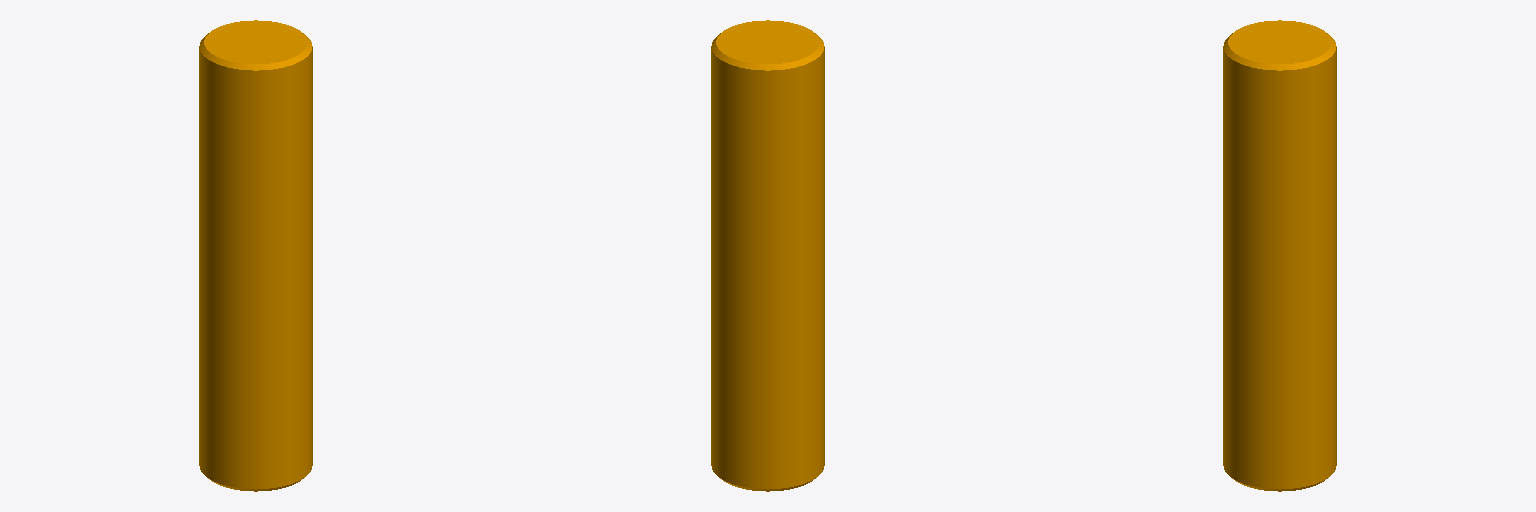
robot.urdf — factory_round_peg_12mm_tight:
<?xml version="1.0"?>
<robot name="factory_round_peg_12mm_tight">
    <link name="factory_round_peg_12mm_tight">
        <visual>
            <geometry>
                <mesh filename="../mesh/factory_insertion/factory_round_peg_12mm_tight.obj"/>
            </geometry>
        </visual>
        <collision>
            <geometry>
                <mesh filename="../mesh/factory_insertion/factory_round_peg_12mm_tight.obj"/>
            </geometry>
            <sdf resolution="256"/>
        </collision>
    </link>
</robot>

--- Facts derived from the render (not from the file) ---
Views: 3 orthographic renders of the robot side by side, from view 1: azimuth 30°, elevation 25°; view 2: azimuth 150°, elevation 25°; view 3: azimuth 270°, elevation 25°.
Model factory_round_peg_12mm_tight with 1 links and 0 joints (none), rooted at factory_round_peg_12mm_tight, posed all joints at 0.
Links seen in each view (by area): view 1: factory_round_peg_12mm_tight; view 2: factory_round_peg_12mm_tight; view 3: factory_round_peg_12mm_tight.
Link boxes in pixels (x1,y1,x2,y2): factory_round_peg_12mm_tight: [199, 20, 312, 491]; factory_round_peg_12mm_tight: [711, 20, 824, 491]; factory_round_peg_12mm_tight: [1223, 20, 1336, 491].
Size in the robot's own frame: 0.012 by 0.012 by 0.05 metres.
1 mesh visuals loaded from 1 distinct referenced files (1 OBJ).